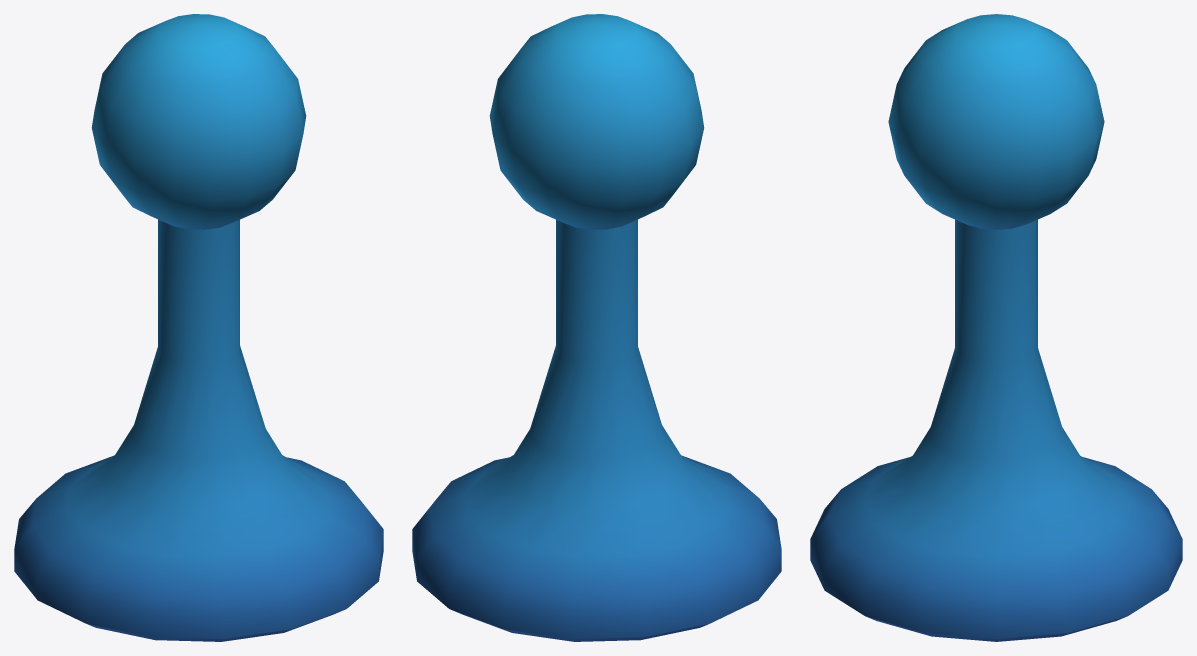
The model's file is pawn-b-blue.glb.
3 views of the same model, side by side, from view 1: azimuth 30°, elevation 25°; view 2: azimuth 150°, elevation 25°; view 3: azimuth 270°, elevation 25° (orthographic).
Parts seen in each view (by area): view 1: pawn_B_blue; view 2: pawn_B_blue; view 3: pawn_B_blue.
Part boxes in pixels (bbox=[...]): pawn_B_blue: bbox=[14, 14, 383, 641]; pawn_B_blue: bbox=[412, 14, 781, 641]; pawn_B_blue: bbox=[810, 14, 1182, 641].
Size of the model in its own units: 0.75 by 1.21 by 0.75.
Materials: 1 (1 with a texture image).
